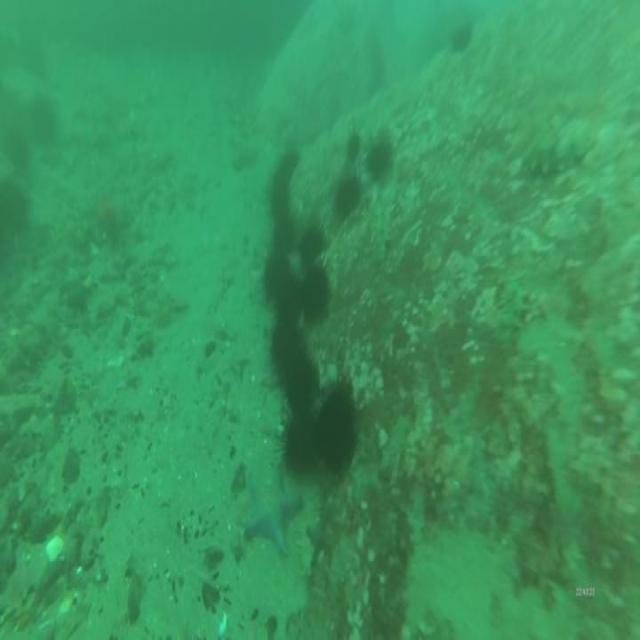echinus: (313, 387, 355, 479), (276, 405, 320, 477), (281, 348, 322, 414), (268, 316, 310, 373), (0, 175, 33, 242), (26, 88, 58, 152), (300, 259, 330, 324), (260, 246, 292, 302), (332, 169, 362, 223), (273, 272, 305, 319), (362, 140, 393, 187), (295, 223, 328, 267), (270, 208, 299, 250), (342, 125, 364, 172), (266, 174, 290, 213), (450, 19, 474, 55), (276, 145, 302, 177)
holothurian: (524, 125, 596, 182)
starfish: (241, 466, 305, 561)
